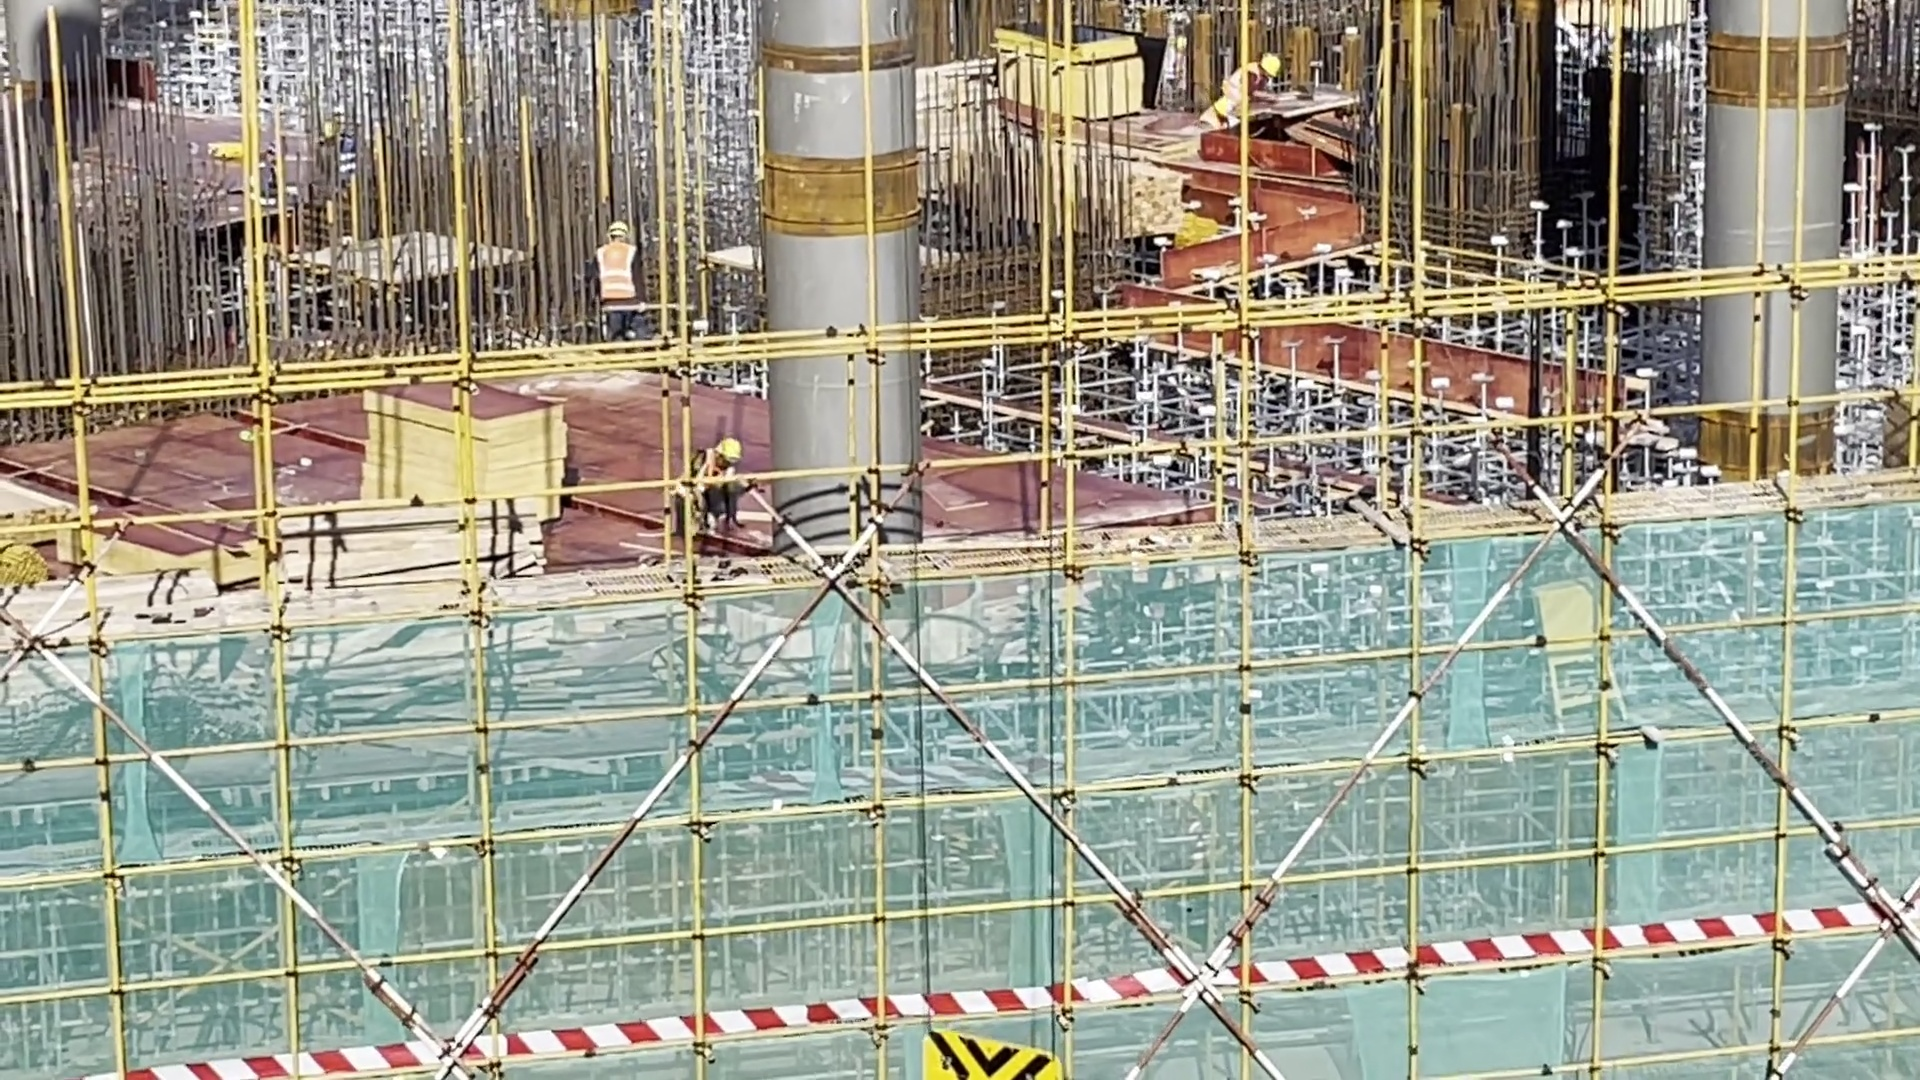board: (365, 383, 577, 520)
helmet: (715, 435, 741, 462), (1256, 49, 1281, 75), (603, 222, 631, 235)
hook: (919, 1023, 1051, 1080)
person: (581, 218, 647, 333), (692, 429, 747, 533), (1230, 50, 1281, 115)
vest: (600, 244, 636, 301)
